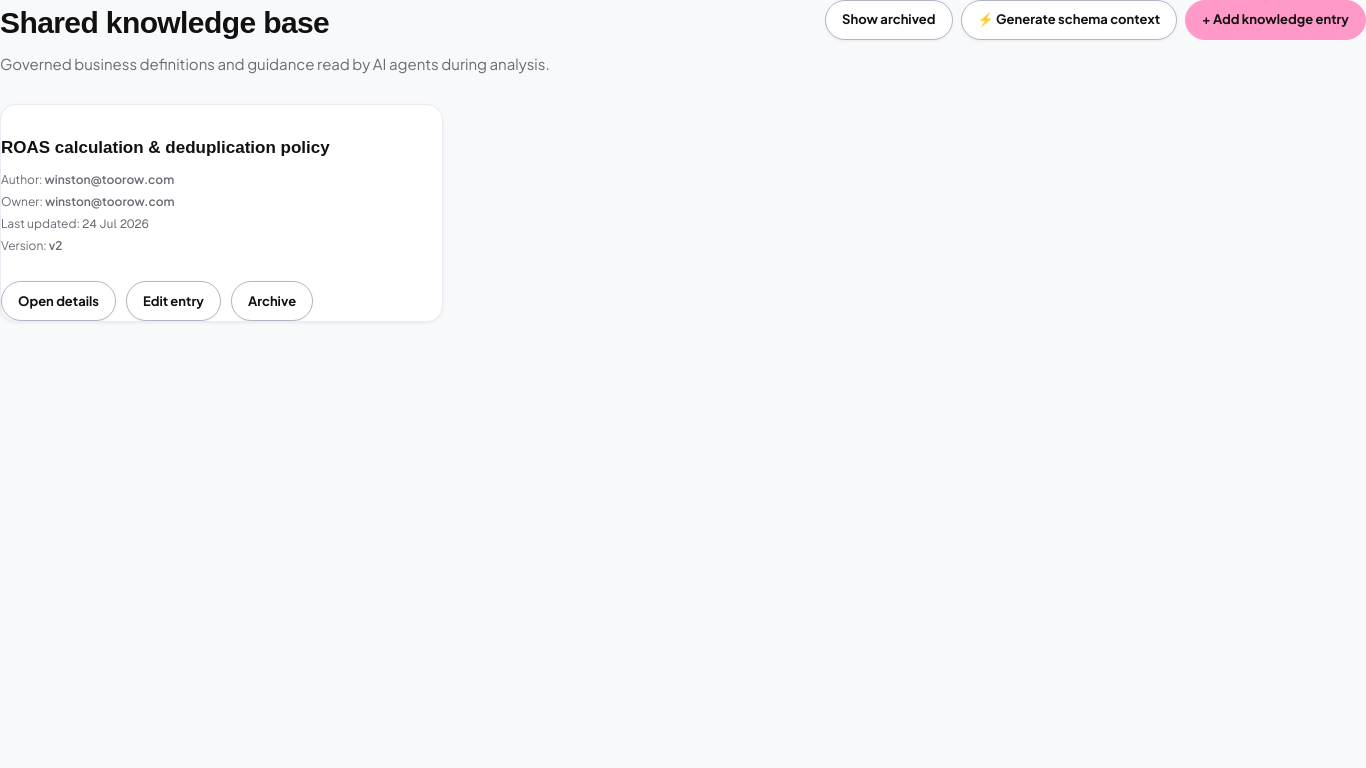
Scenario: KnowledgeBasePage — create/edit preserves draft on failure › reflects the new version_number and author after a successful edit
Expected: the heading "ROAS calculation & deduplication policy" is shown, [1, 136, 330, 159]
Click the button "Edit entry". click: click(173, 301)
box: [126, 281, 221, 321]
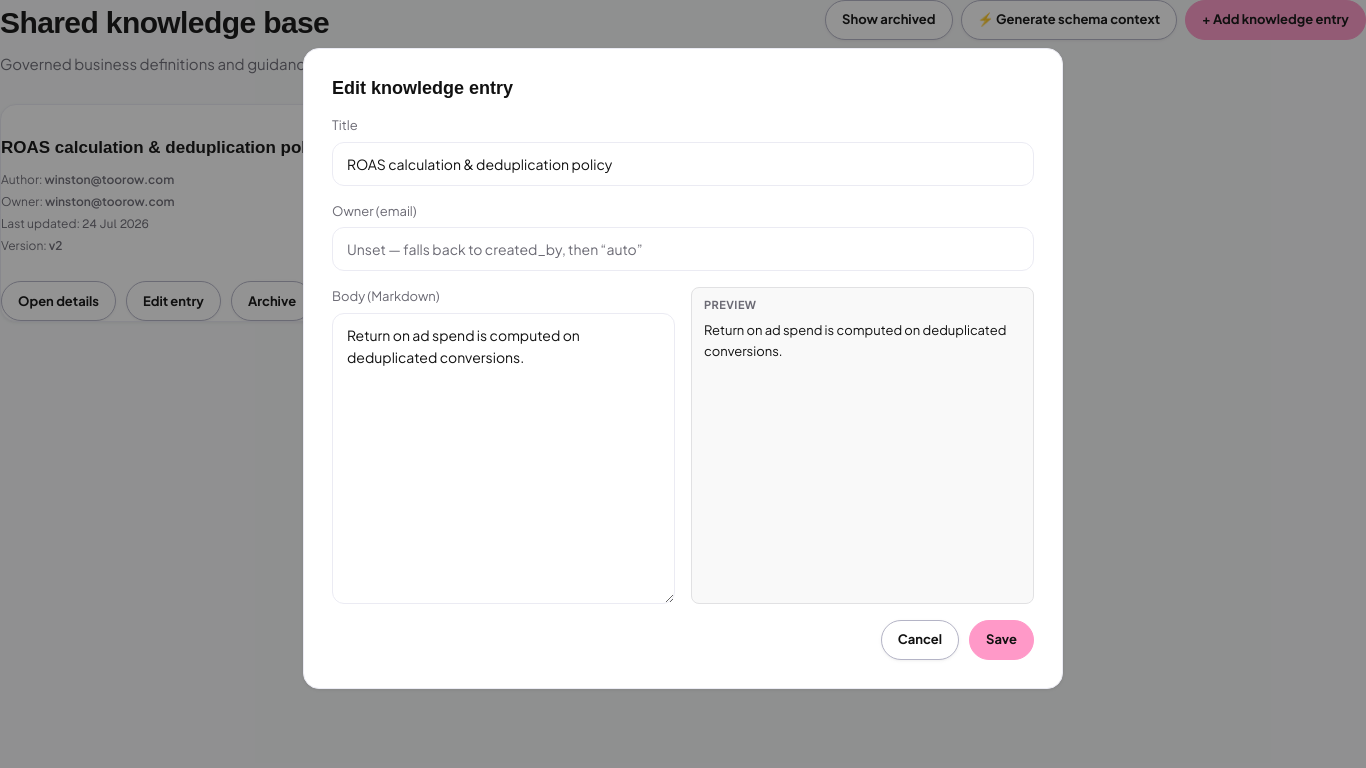
Replace the text in the field showing "ROAS calculation & deduplication policy" with "Updated title". click: (683, 164)
box: [332, 142, 1034, 186]
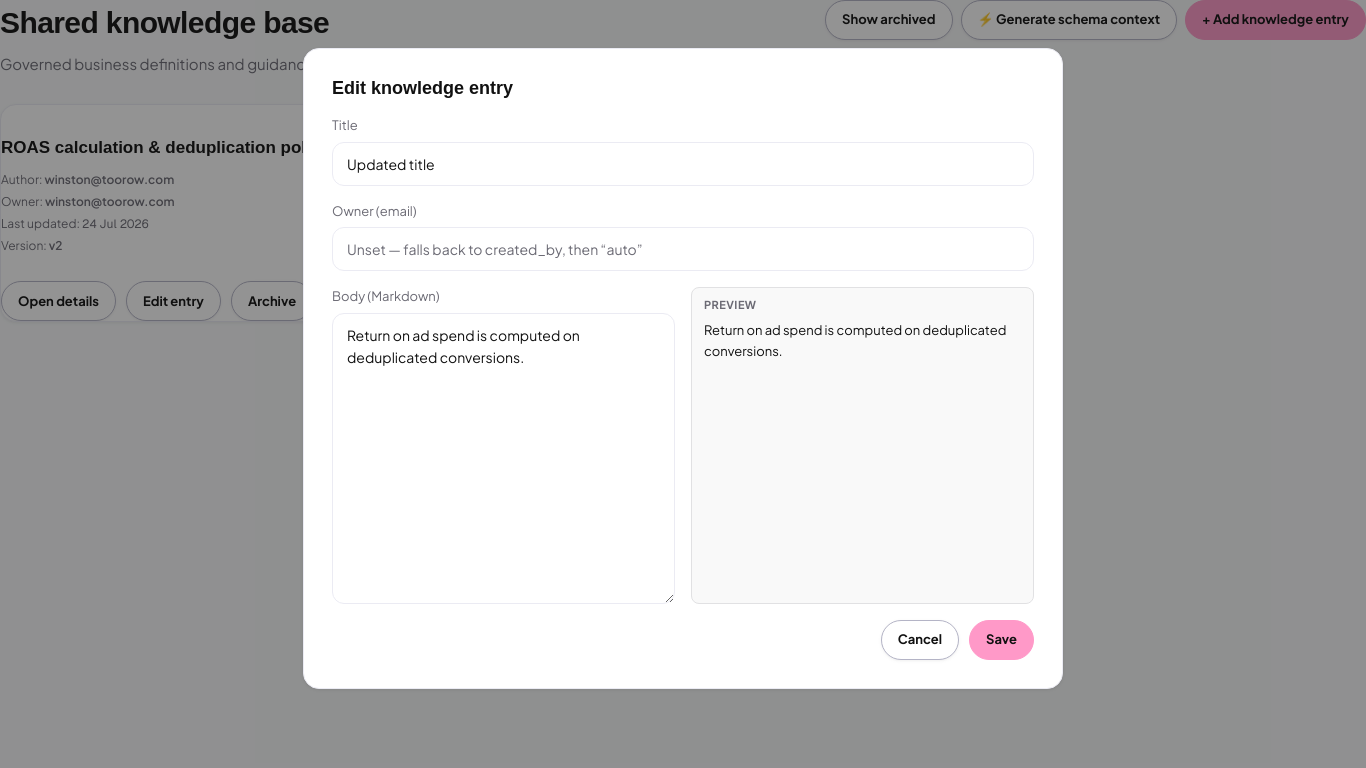
Click the button "Save". click: click(1002, 640)
box: [969, 620, 1034, 660]
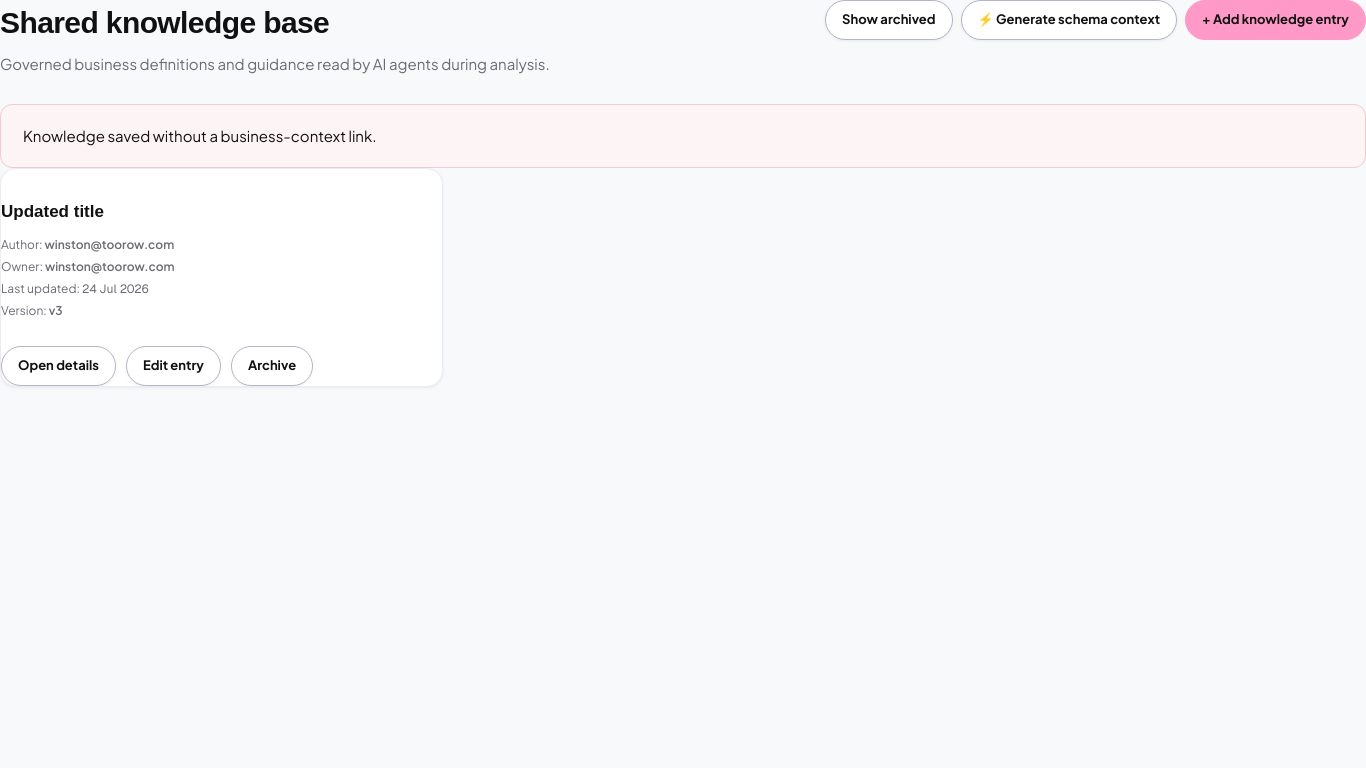
Result: the heading "Updated title" is shown at [1, 201, 104, 224]
Result: the text "v3" is shown at [49, 303, 63, 318]
